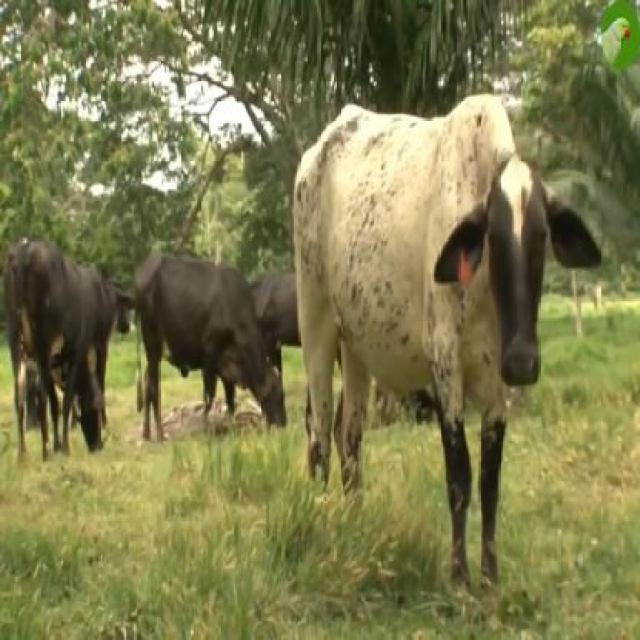Cow: (292, 94, 600, 591), (134, 250, 288, 448), (3, 235, 103, 463)
